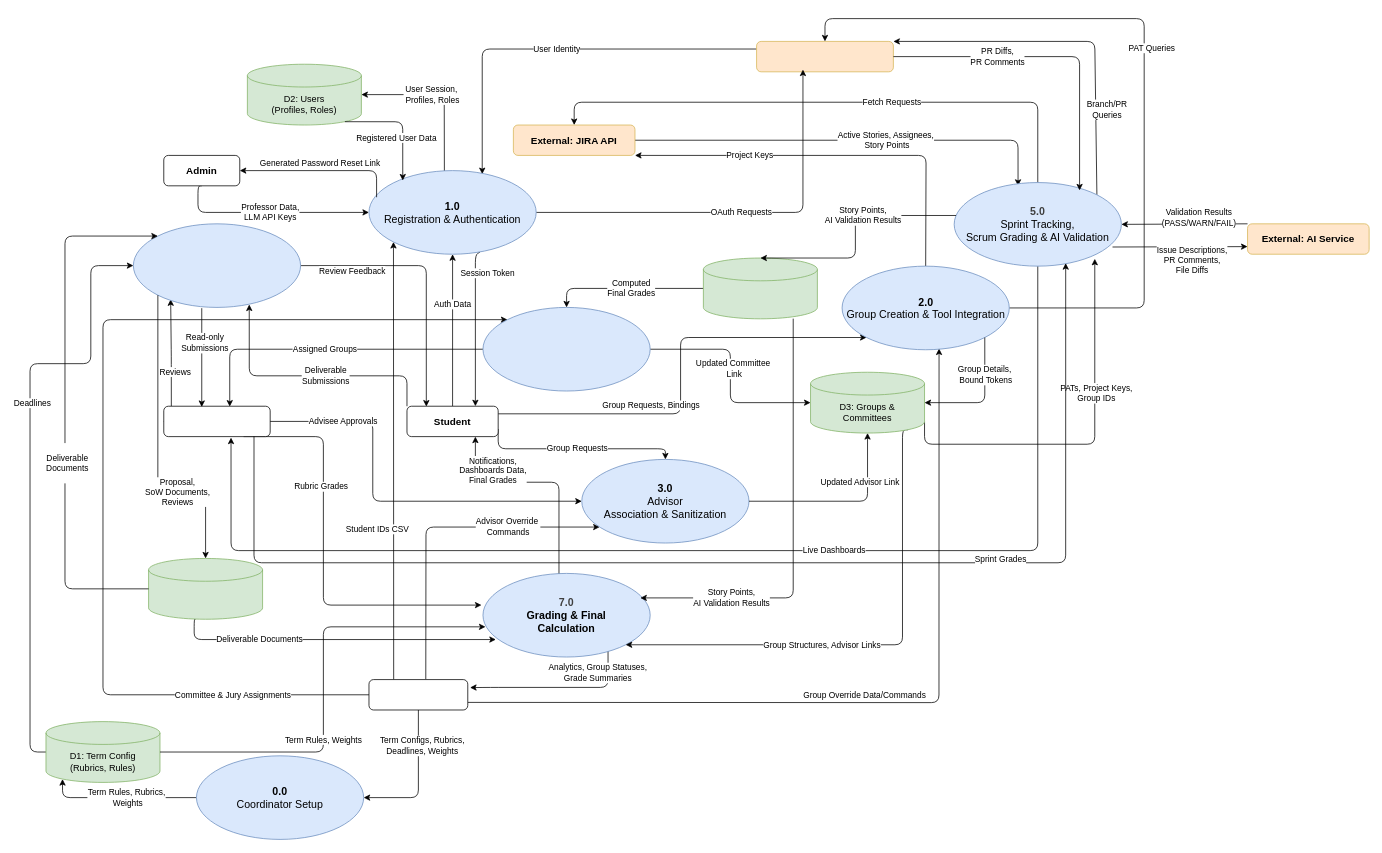
This 1382x853 diagram has some shape labels left out. The shapes that lost their labels are listed below. From the top down, each one's centre as x and y in pixels, then its label:
[824,56]: External: GitHub API
[217,265]: 6.0 DeliverableSubmission & Review
[760,288]: D5: Sprint & Grading Logs
[566,349]: 4.0 Committee Assignment
[216,421]: Advisor / Jury
[205,588]: D4: Submissions (Documents)
[418,694]: Coordinator
